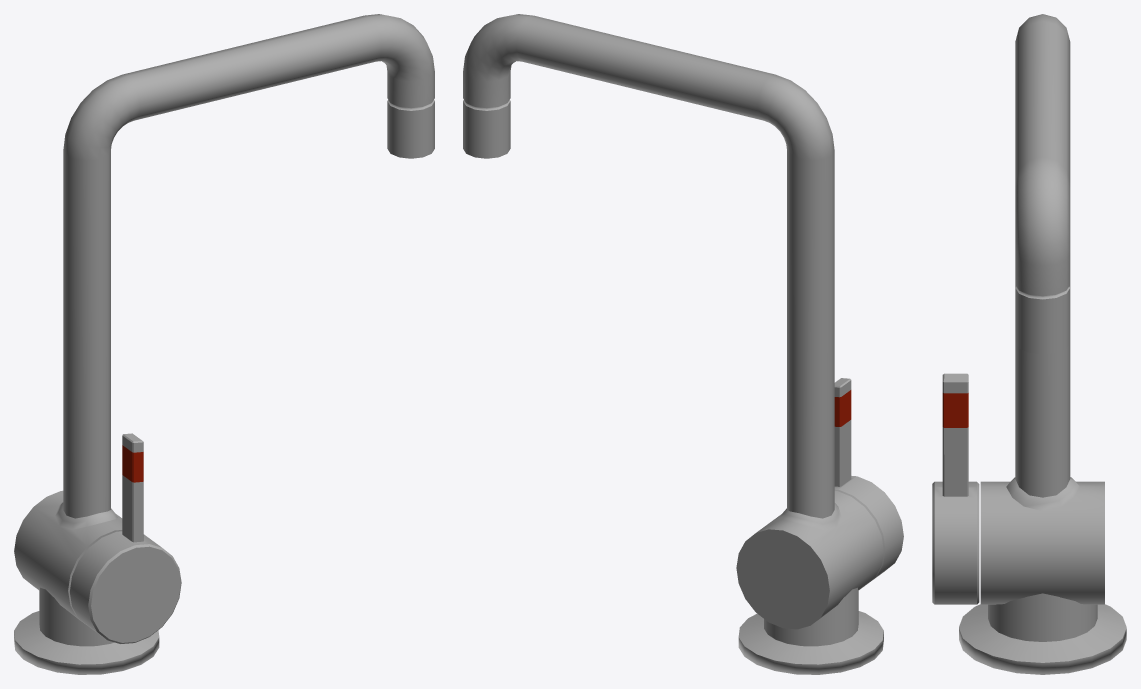
File: Faucet.fbx
3 renders of one model, left to right at view 1: azimuth 30°, elevation 25°; view 2: azimuth 150°, elevation 25°; view 3: azimuth 270°, elevation 25°, orthographic. The views are drawn at different scales.
Visible parts, largest first — view 1: polySurface25; view 2: polySurface25; view 3: polySurface25.
Boxes of the visible parts, box(x1,y1,x2,y2) form: polySurface25: box(14, 14, 434, 674); polySurface25: box(463, 14, 903, 674); polySurface25: box(932, 14, 1126, 674).
Bounding box in the file's own units: 0.3406 × 0.4448 × 0.1223.
